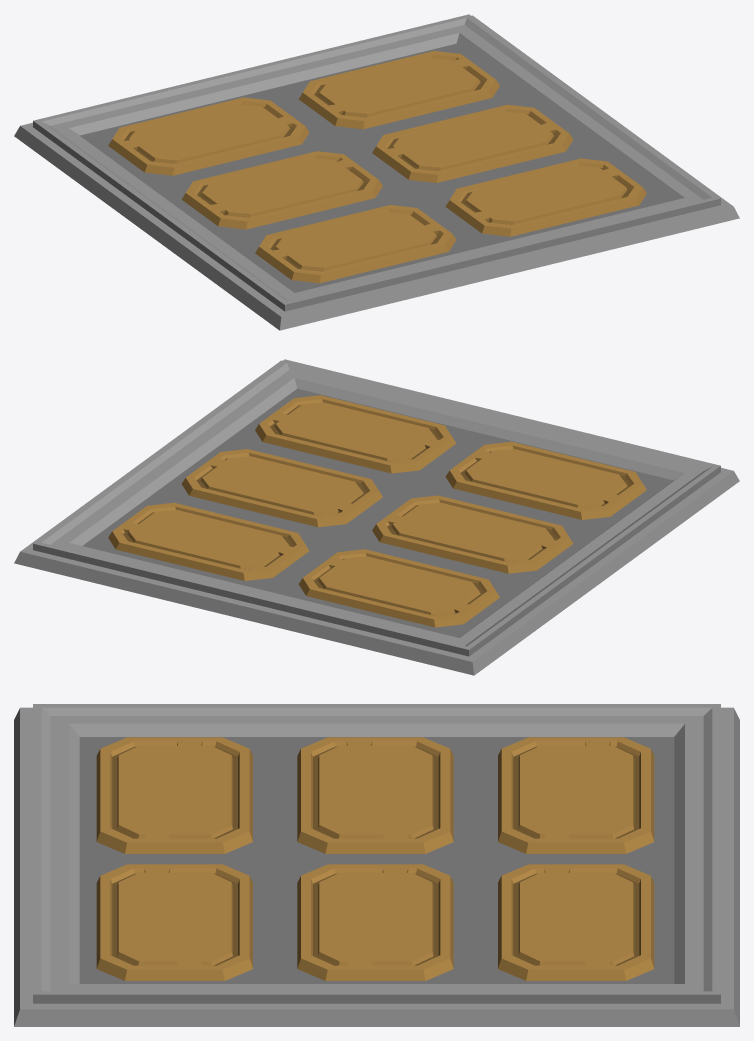
File: quaternius-modular-sci-fi-roof-tile-details.glb
3 renders of one model, top to bottom at view 1: azimuth 30°, elevation 25°; view 2: azimuth 150°, elevation 25°; view 3: azimuth 270°, elevation 25°, orthographic. The views are drawn at different scales.
Visible parts, largest first — view 1: RoofTile_Details; view 2: RoofTile_Details; view 3: RoofTile_Details.
Boxes of the visible parts, left/top/right/bottom form: RoofTile_Details: left=14, top=14, right=739, bottom=330; RoofTile_Details: left=14, top=359, right=739, bottom=675; RoofTile_Details: left=14, top=704, right=739, bottom=1026.
Size of the model in its own units: 2 by 0.0806 by 2.
